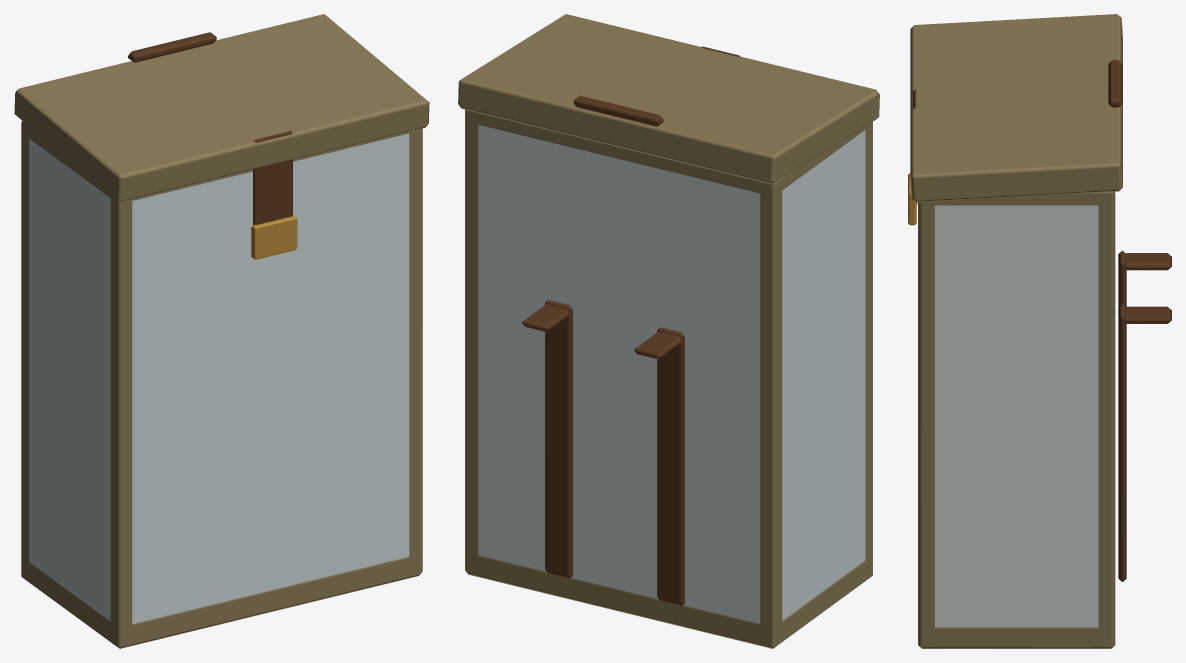
The model's file is Backsack1.glb.
3 views of the same model, side by side, from view 1: azimuth 30°, elevation 25°; view 2: azimuth 150°, elevation 25°; view 3: azimuth 270°, elevation 25° (orthographic). The views are drawn at different scales.
Visible parts, largest first — view 1: Backsack1.001; view 2: Backsack1.001; view 3: Backsack1.001.
Part boxes in pixels (x1,y1,x2,y2): Backsack1.001: [14, 14, 429, 648]; Backsack1.001: [458, 14, 879, 648]; Backsack1.001: [908, 14, 1171, 648].
Bounding box in the file's own units: 0.51 × 0.7775 × 0.374.
